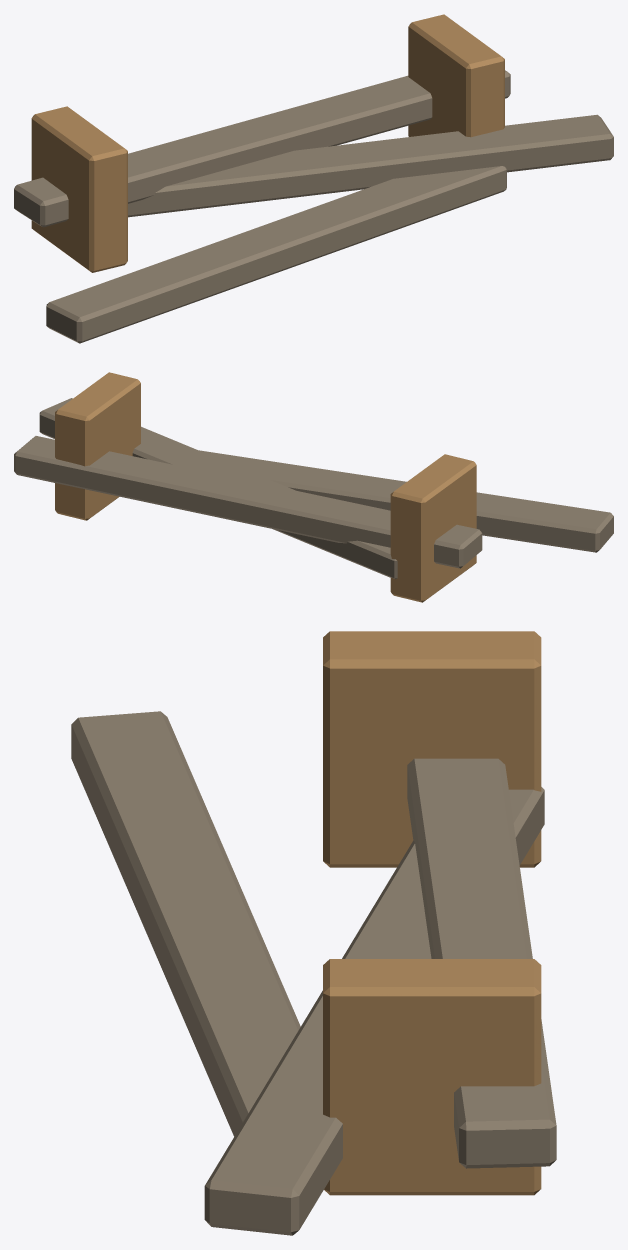
Rendered from chapter_fishing_debris.glb.
3 views of the same model, one above another, from view 1: azimuth 30°, elevation 25°; view 2: azimuth 150°, elevation 25°; view 3: azimuth 270°, elevation 25° (orthographic). The views are drawn at different scales.
Parts seen in each view (by area): view 1: Discarded weathered bench plank, Discarded weathered bench plank.001, Discarded weathered bench plank.002, Broken bench support, Broken bench support.001; view 2: Discarded weathered bench plank.002, Discarded weathered bench plank, Broken bench support, Broken bench support.001, Discarded weathered bench plank.001; view 3: Broken bench support.001, Discarded weathered bench plank, Broken bench support, Discarded weathered bench plank.002, Discarded weathered bench plank.001.
Boxes of the visible parts, box(x1,y1,x2,y2) form: Discarded weathered bench plank: box(46, 166, 506, 343); Discarded weathered bench plank.001: box(128, 114, 613, 217); Discarded weathered bench plank.002: box(14, 70, 510, 227); Broken bench support: box(31, 106, 127, 272); Broken bench support.001: box(408, 14, 504, 137); Discarded weathered bench plank.002: box(14, 436, 482, 568); Discarded weathered bench plank: box(199, 450, 613, 552); Broken bench support: box(390, 454, 476, 602); Broken bench support.001: box(55, 372, 140, 520); Discarded weathered bench plank.001: box(39, 398, 397, 579); Broken bench support.001: box(323, 959, 541, 1195); Discarded weathered bench plank: box(71, 711, 300, 1136); Broken bench support: box(323, 631, 541, 867); Discarded weathered bench plank.002: box(407, 758, 556, 1168); Discarded weathered bench plank.001: box(204, 787, 544, 1235).
Bounding box in the file's own units: 2.12 × 0.4 × 0.8447.
